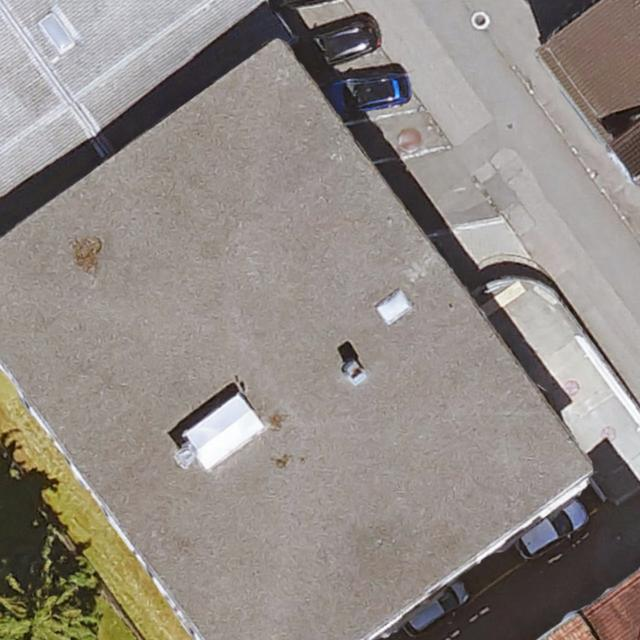tree: (0, 562, 94, 640)
